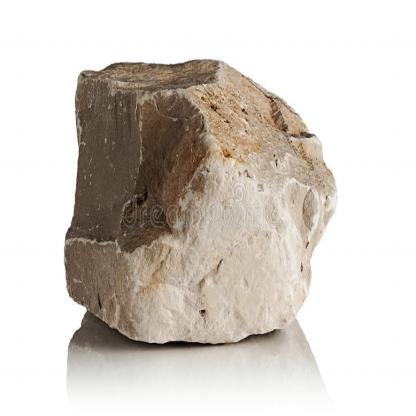Sedimentary_Limestone: (44, 38, 340, 358)
